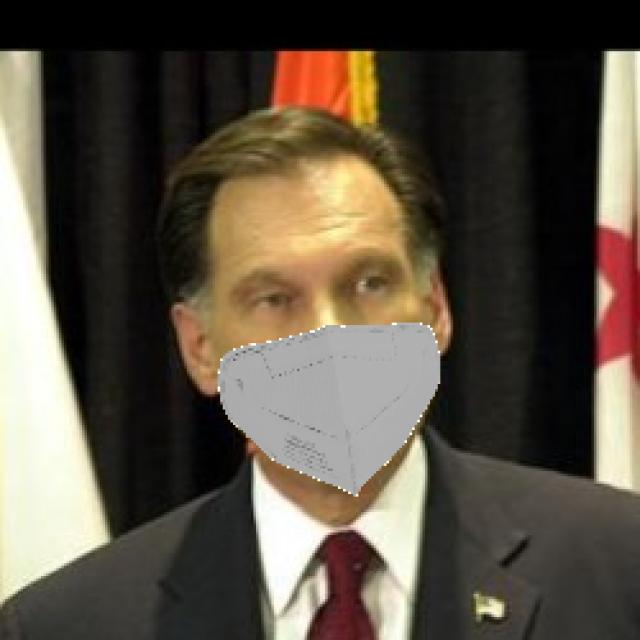mask: (205, 321, 453, 494)
